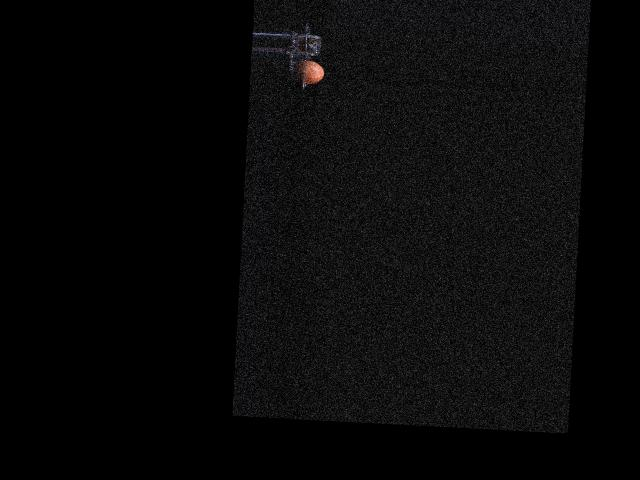egg: (291, 60, 324, 85)
